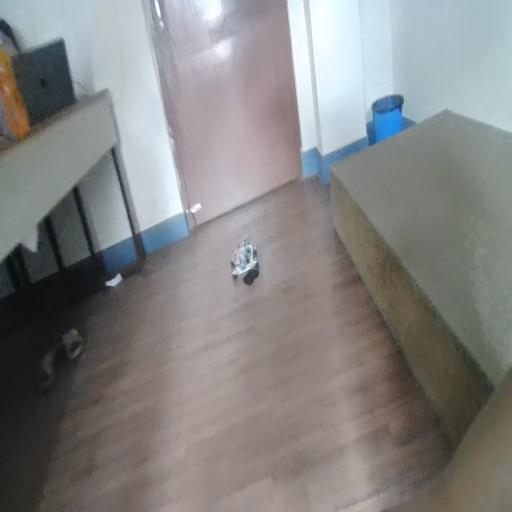car: (229, 249, 277, 308)
